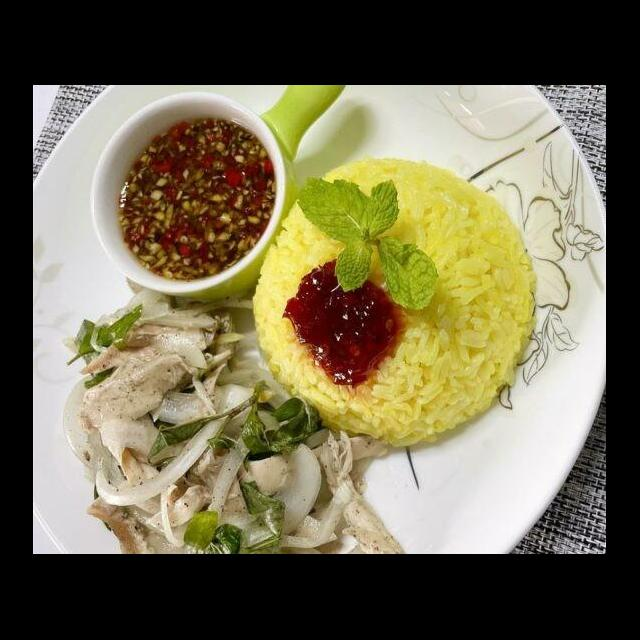com: (250, 152, 540, 454)
rau ram: (146, 378, 326, 464), (178, 480, 290, 554), (65, 298, 146, 392)
thit ga: (59, 284, 280, 496), (82, 432, 408, 554)
